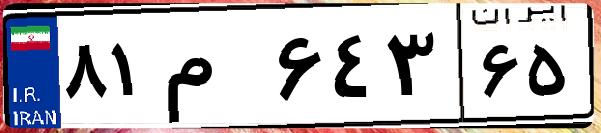1: (110, 28, 158, 98)
3: (385, 28, 445, 110)
4: (330, 28, 385, 110)
5: (525, 38, 570, 115)
6: (270, 28, 330, 110), (475, 38, 525, 113)
8: (57, 26, 110, 100)
م: (158, 20, 270, 120)
